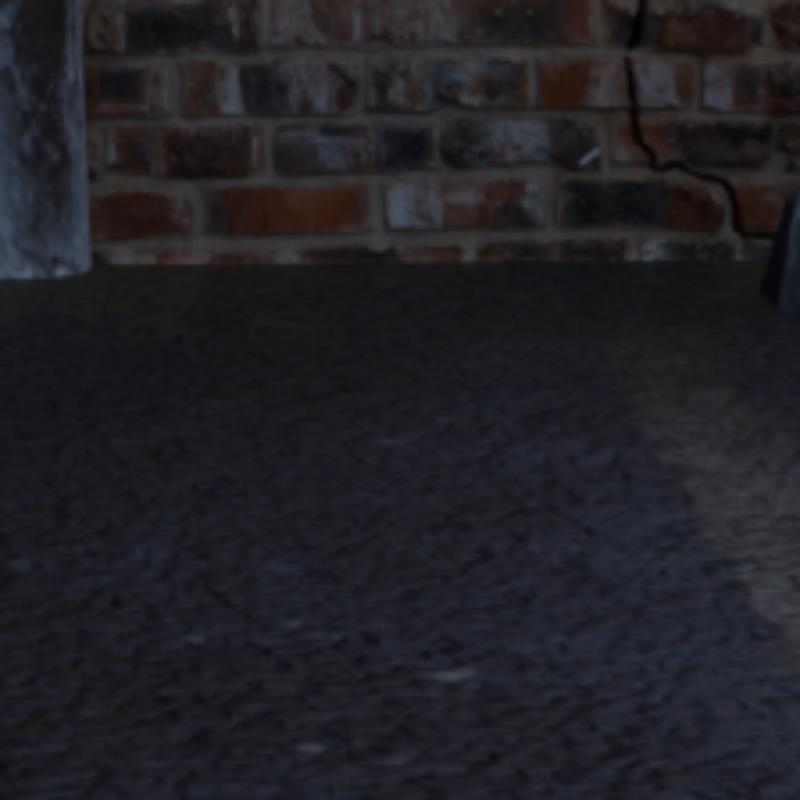pothole: (625, 0, 771, 239)
